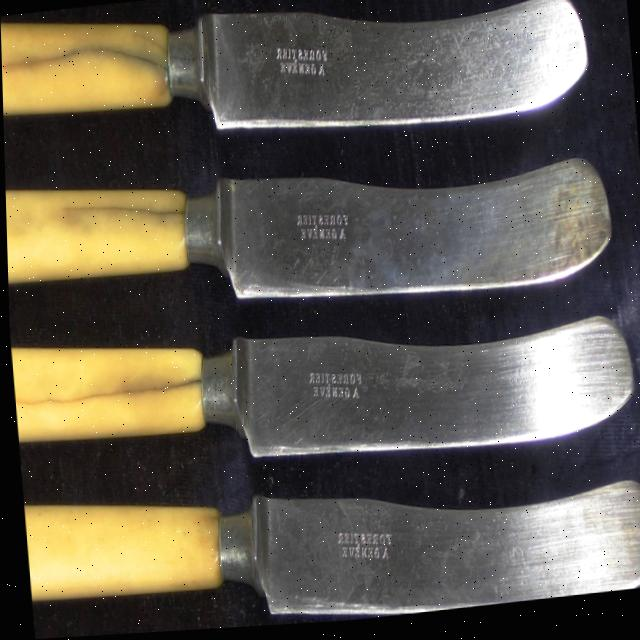knife: (8, 284, 640, 495), (4, 130, 619, 334), (20, 446, 640, 640), (0, 0, 603, 193)
